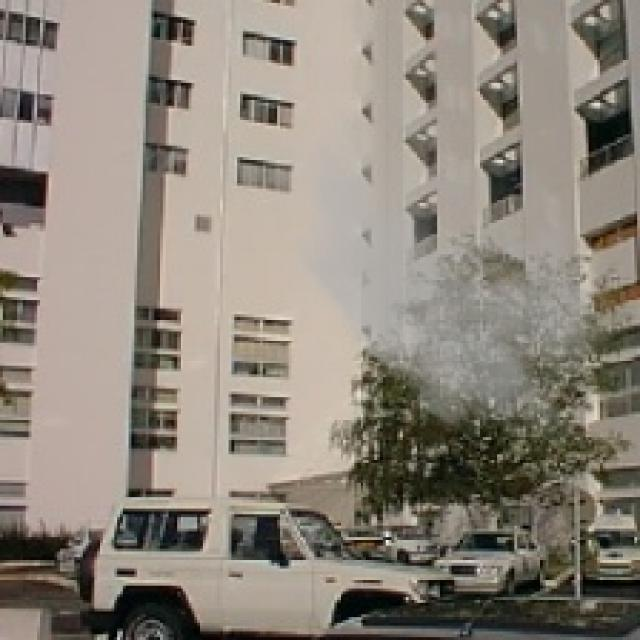smoke: (255, 54, 634, 457)
